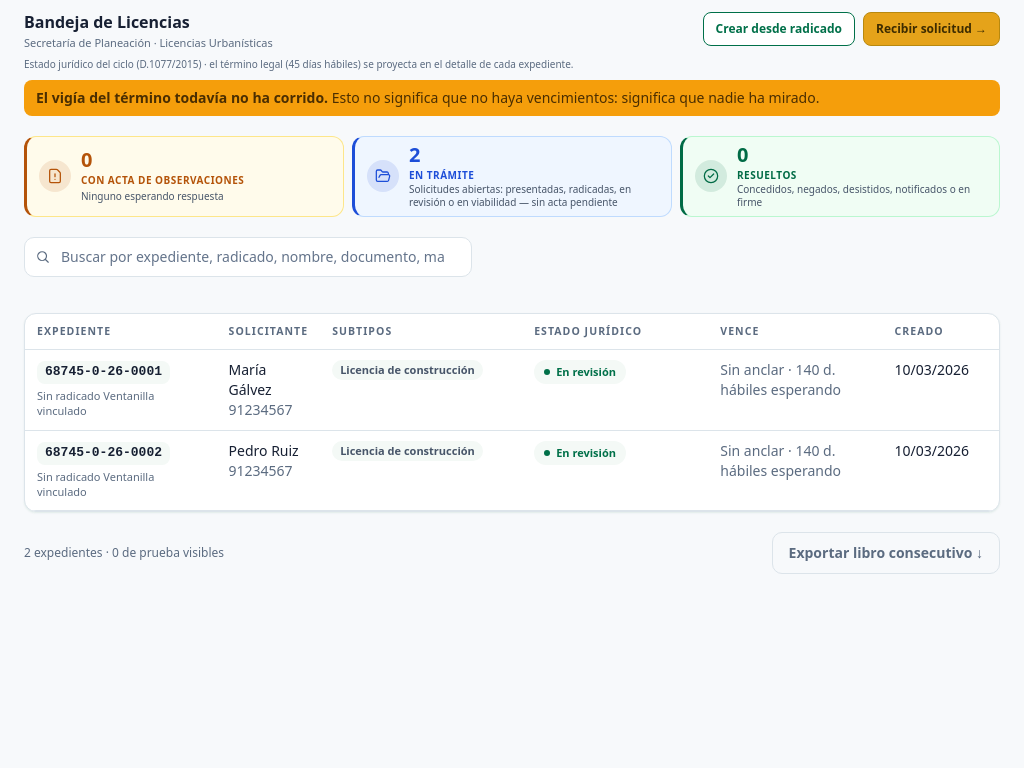
Test case: BandejaLicenciasClient — buscador rápido › filtra por nombre del solicitante, insensible a acentos/mayúsculas
Expected: the text "68745-0-26-0002" is shown, [37,442,170,465]
Replace the text in the search field named "Buscar en la bandeja de licencias por expediente, radicado, solicitante, documento, matrícula inmobiliaria, tipo o estad" with "MARIA GALVEZ": (248, 257) [24,237,472,277]
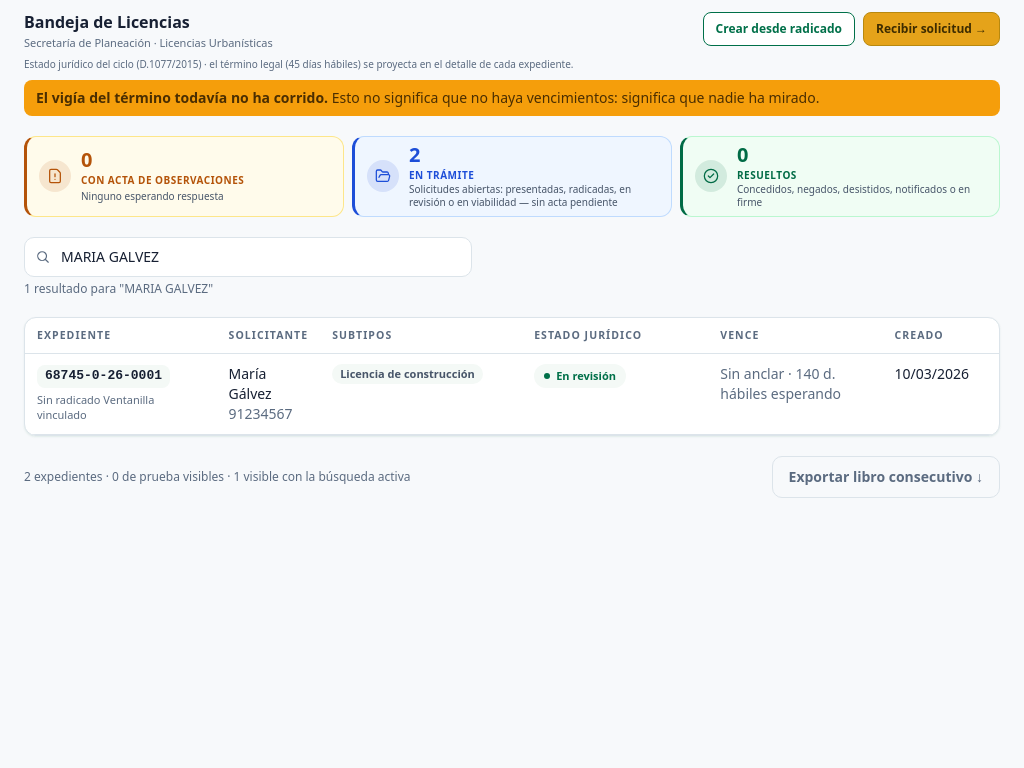
Expected: the text "68745-0-26-0001" is shown, [37,365,170,388]
Expected: the link "68745-0-26-0002" is gone
Expected: the text "1 resultado para \"MARIA GALVEZ\"" is shown, [24,280,213,297]
